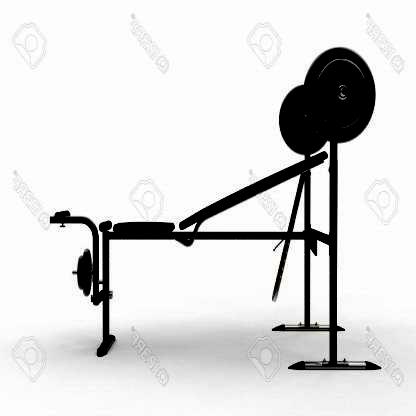Barbell: (334, 78, 348, 104)
